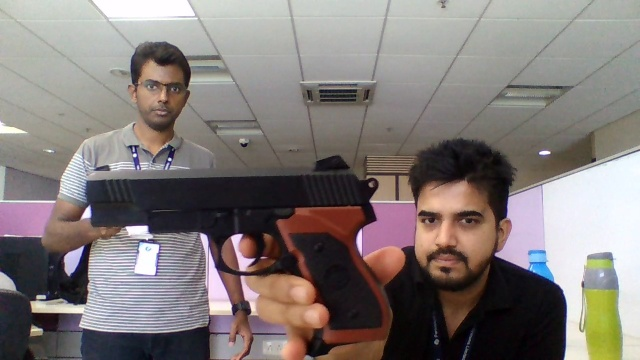gun: (84, 161, 374, 264)
